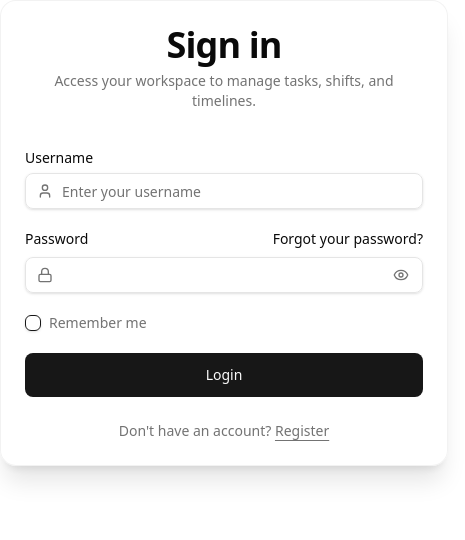
Scenario: LoginCard — integration › shows server error when login fails
Type "bob" into the field labelled "Username" at (224, 191), box [25,173,423,209]
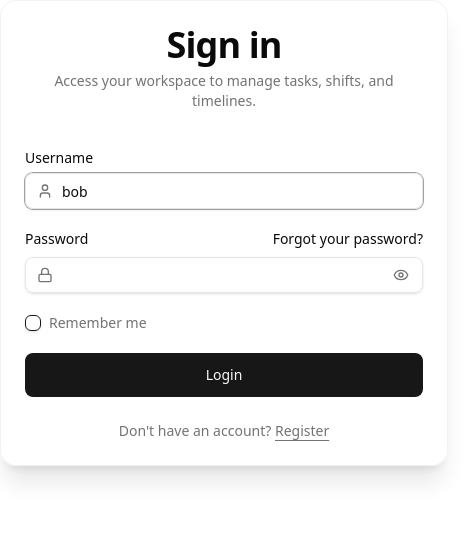
Type "wrongpw" into the password field labelled "Password" at (224, 275), box [25,257,423,293]
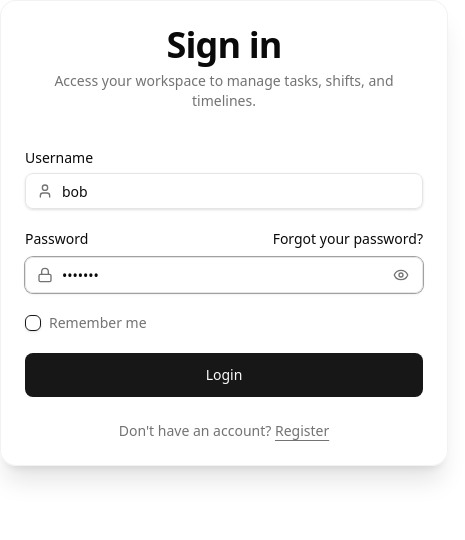
Click the button "Login" at (224, 375), box [25,353,423,397]
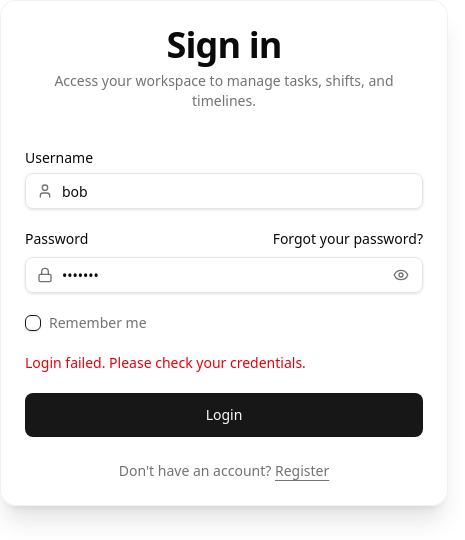
Expected: the text "Login failed. Please check your credentials." is shown, [25,353,306,372]
